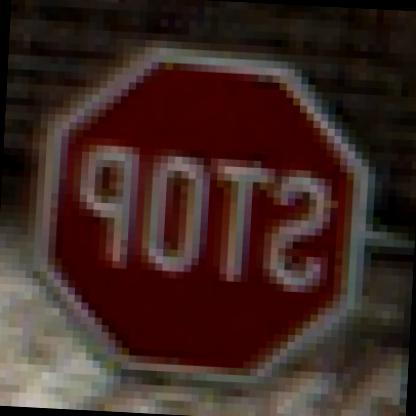stop: (29, 43, 366, 378)
